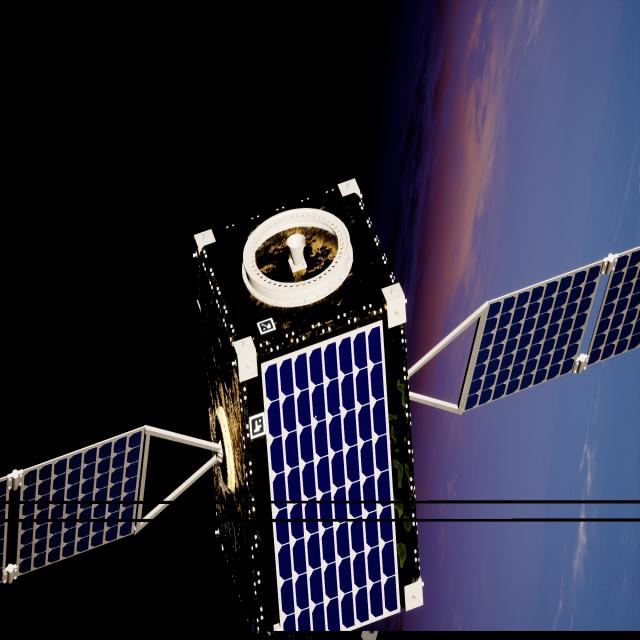satellite: (0, 180, 640, 637)
